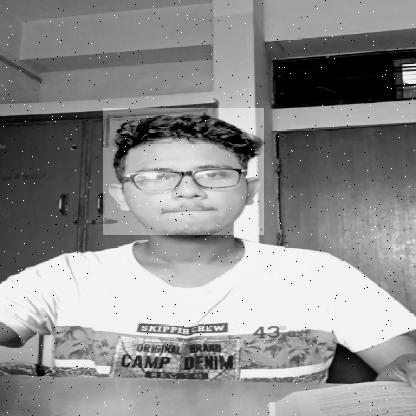Normal: (103, 108, 264, 235)
